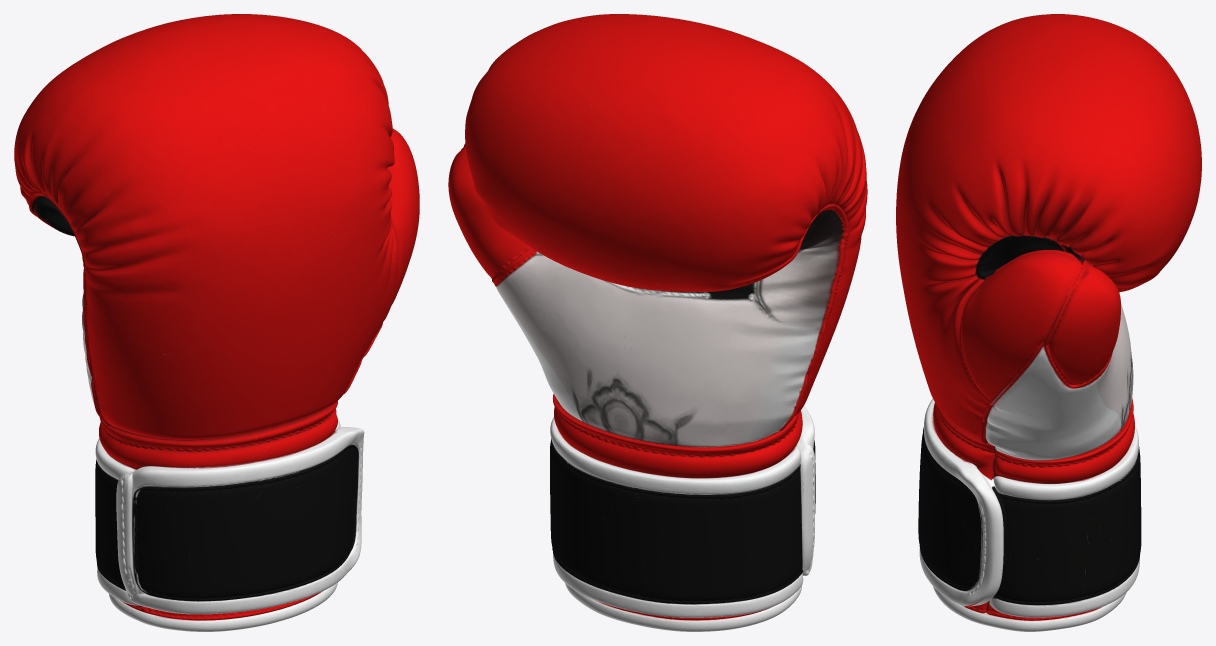
Rendered from guante izquierdo.glb.
3 renders of one model, left to right at view 1: azimuth 30°, elevation 25°; view 2: azimuth 150°, elevation 25°; view 3: azimuth 270°, elevation 25°, orthographic. The views are drawn at different scales.
Bounding box in the file's own units: 1.35 × 1.9 × 0.9809.
Materials: 1 (1 with a texture image).
